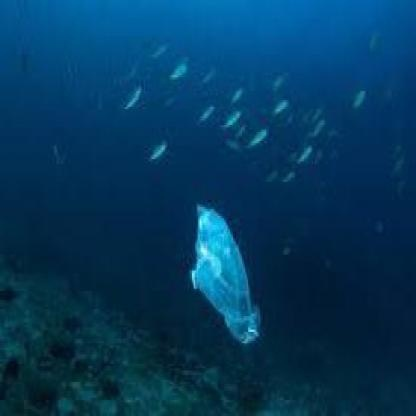pbag: (189, 202, 262, 346)
